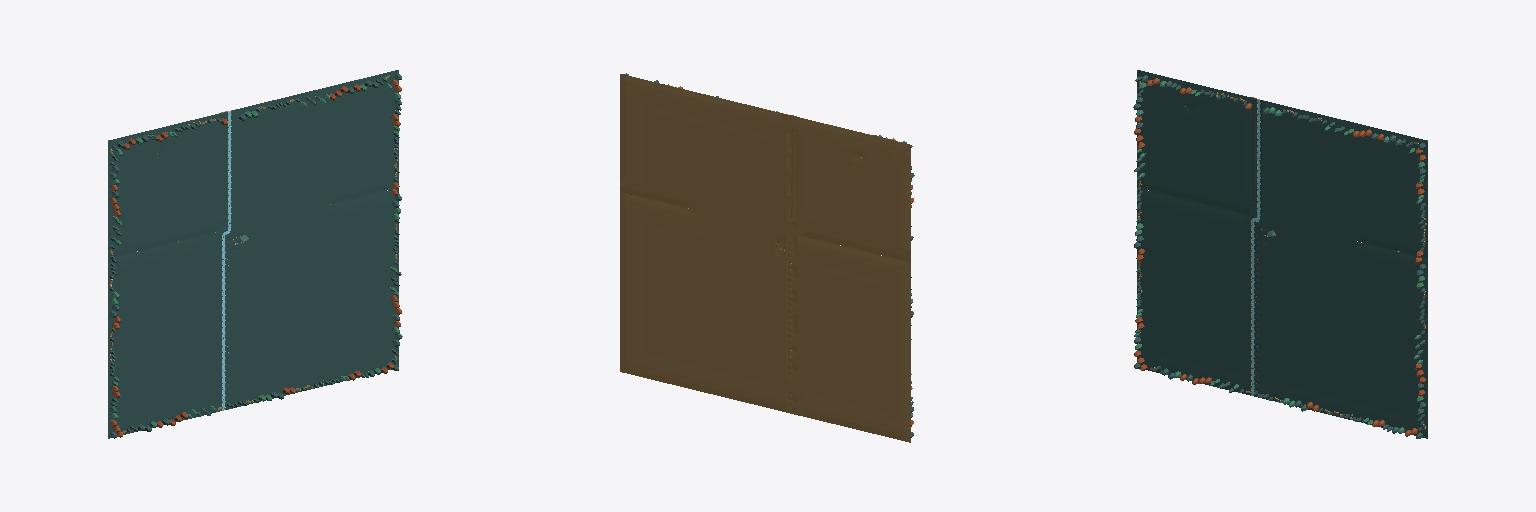
File: PlayGround.obj
The picture shows the model from 3 angles: view 1: azimuth 30°, elevation 25°; view 2: azimuth 150°, elevation 25°; view 3: azimuth 330°, elevation 25°; orthographic projection.
Visible parts, largest first — view 1: Object.1; view 2: Object.1; view 3: Object.1.
Part boxes in pixels (bbox=[...]): Object.1: bbox=[108, 70, 398, 438]; Object.1: bbox=[620, 74, 910, 442]; Object.1: bbox=[1137, 70, 1427, 438].
Bounding box in the file's own units: 374 × 367 × 12.77.